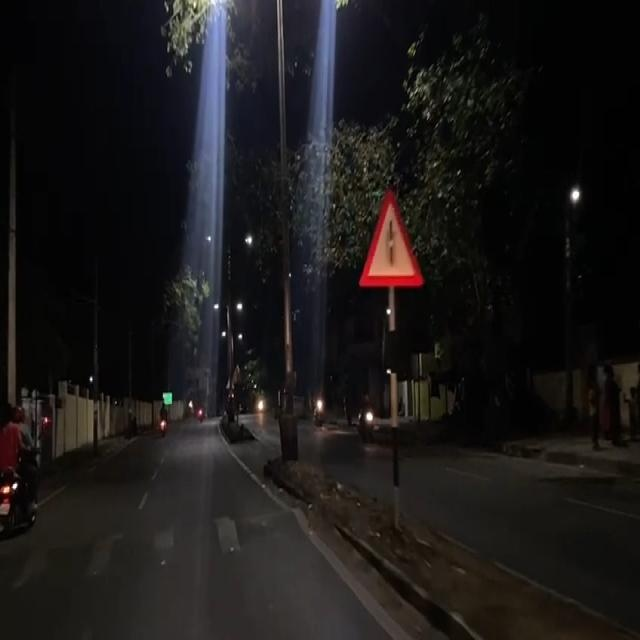bien_nguy_hiem: (358, 182, 426, 295)
